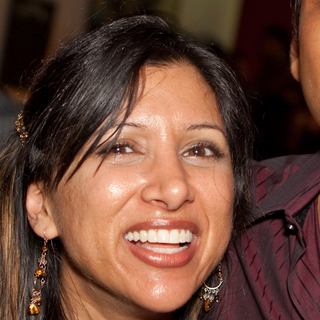eye: (92, 138, 148, 164), (175, 136, 225, 165)
